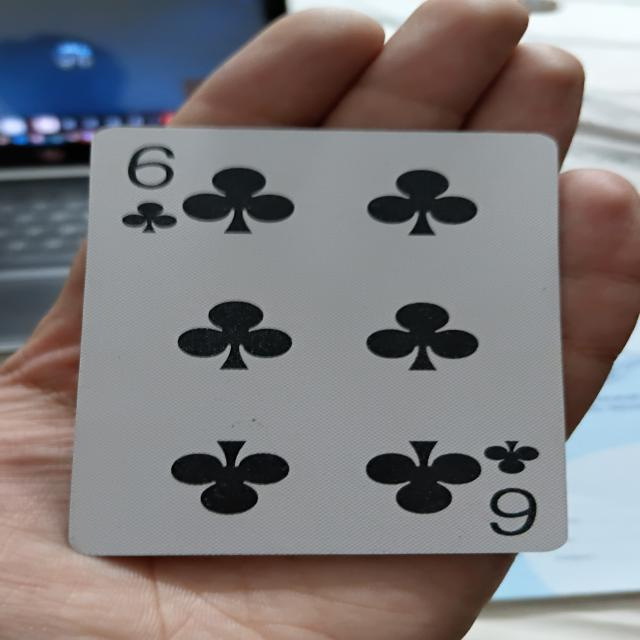6C: (78, 128, 574, 550)
